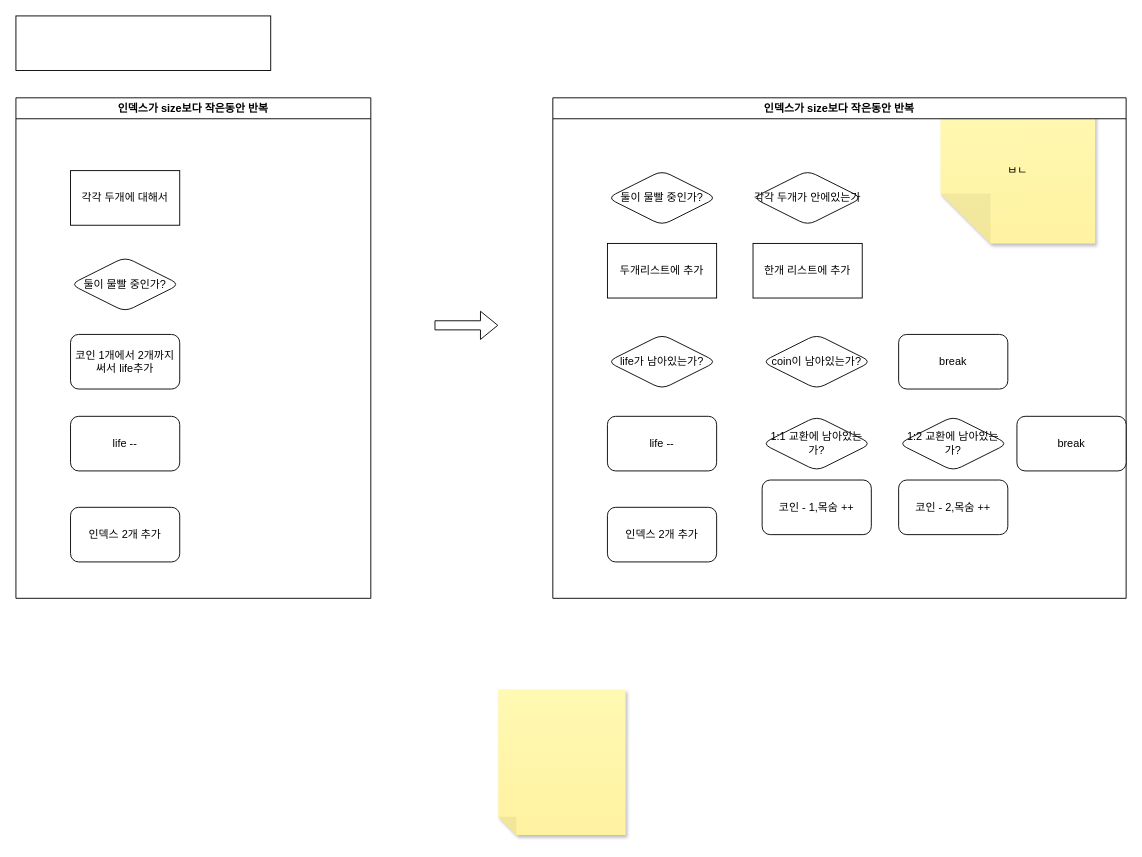
Image size: 1142x857. Some labels were removed from this diagram. The shapes that lost their labels are listed below. From the top down, each one's centre as x and y in pixels, then its label:
At (143,43): "카드배열과 짝 배열 추가".
At (562,763): "오 스티커".
